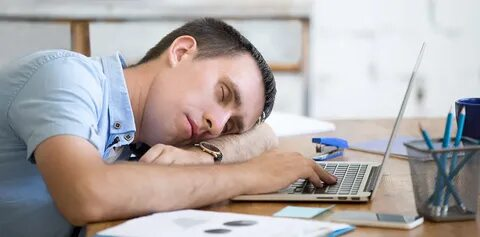sleep: (1, 17, 326, 223)
